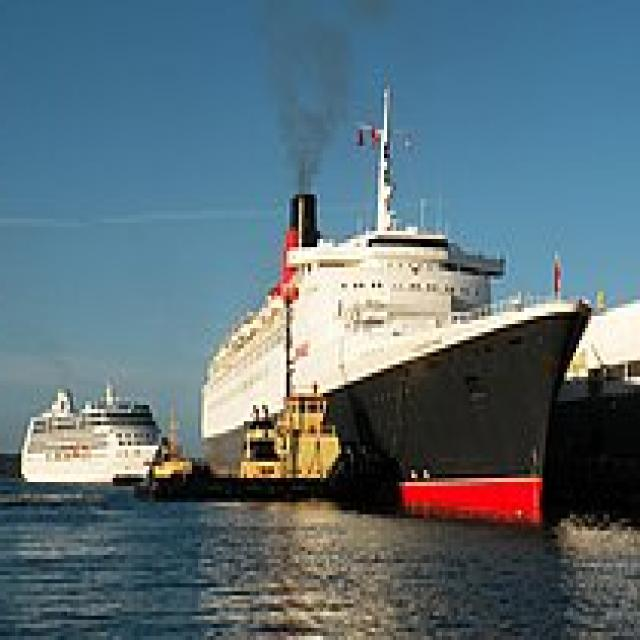Cruise: (202, 77, 600, 527), (21, 373, 168, 486)
